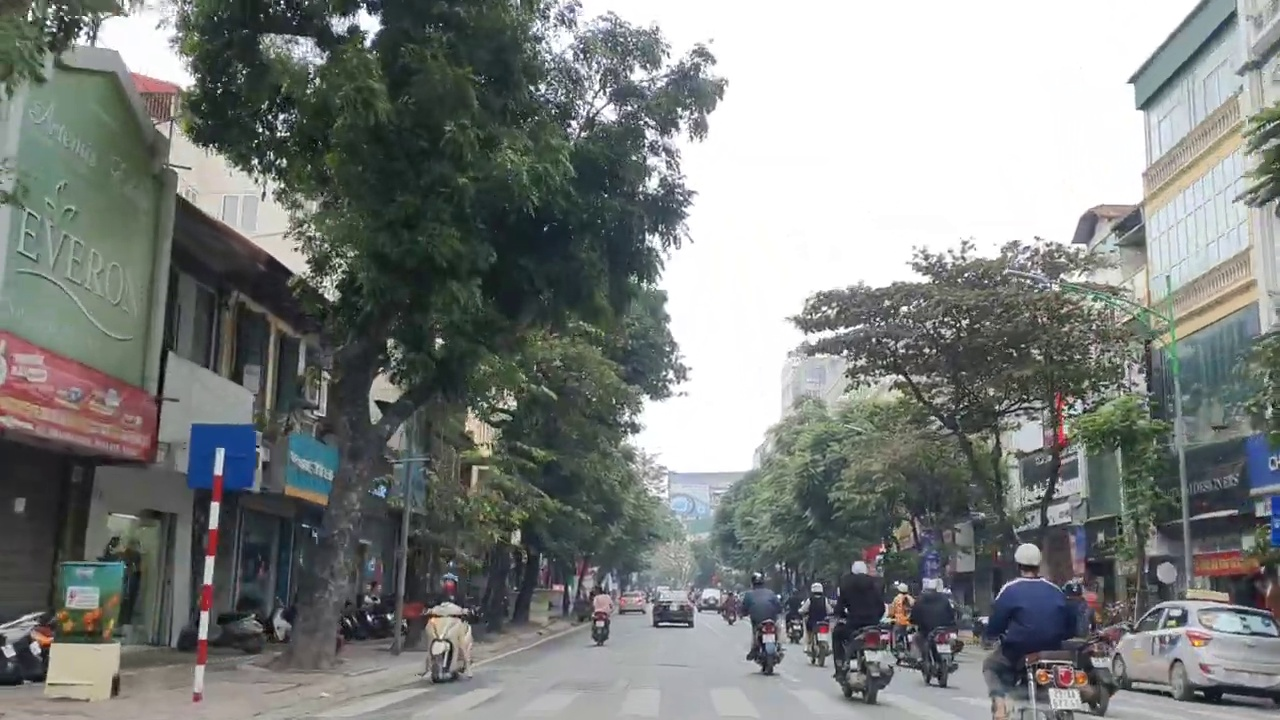person: (1046, 687, 1084, 709), (1237, 670, 1270, 683), (1088, 651, 1113, 668), (933, 640, 952, 653), (759, 630, 778, 642), (864, 650, 881, 661), (668, 603, 680, 611), (595, 618, 604, 628)
